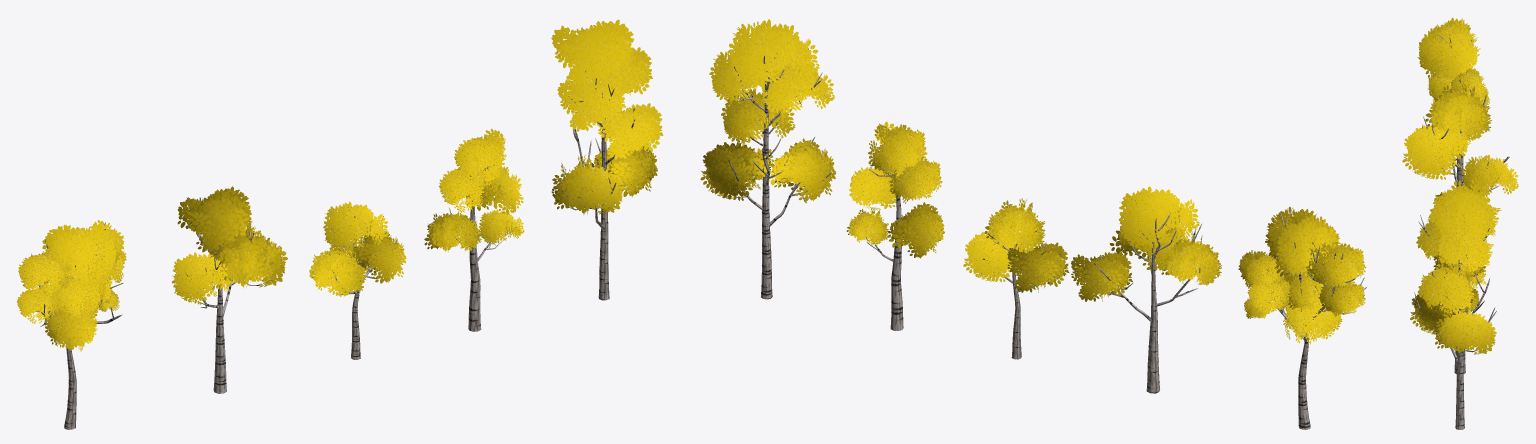
File: birch_trees_free_model.glb
The picture shows the model from 3 angles, left to right: view 1: azimuth 30°, elevation 25°; view 2: azimuth 150°, elevation 25°; view 3: azimuth 270°, elevation 25°; orthographic projection. The views are drawn at different scales.
Parts seen in each view (by area): view 1: BirchTree_2, BirchTree_3, BirchTree_5, BirchTree_1, BirchTree_4; view 2: BirchTree_2, BirchTree_3, BirchTree_5, BirchTree_1, BirchTree_4; view 3: BirchTree_2, BirchTree_5, BirchTree_3, BirchTree_1.
Boxes of the visible parts, x1,y1,x2,y2 form: BirchTree_2: (551,19,663,300); BirchTree_3: (17,220,126,429); BirchTree_5: (171,186,287,393); BirchTree_1: (424,128,524,331); BirchTree_4: (309,201,406,359); BirchTree_2: (700,19,836,299); BirchTree_3: (1238,206,1366,429); BirchTree_5: (1071,186,1221,393); BirchTree_1: (846,121,944,330); BirchTree_4: (963,198,1069,359); BirchTree_2: (1410,178,1501,429); BirchTree_5: (1402,82,1518,194); BirchTree_3: (1417,17,1490,186); BirchTree_1: (1425,217,1486,374).
Size of the model in its own units: 18.56 by 7.57 by 3.51.
Materials: 2 (2 with a texture image).
